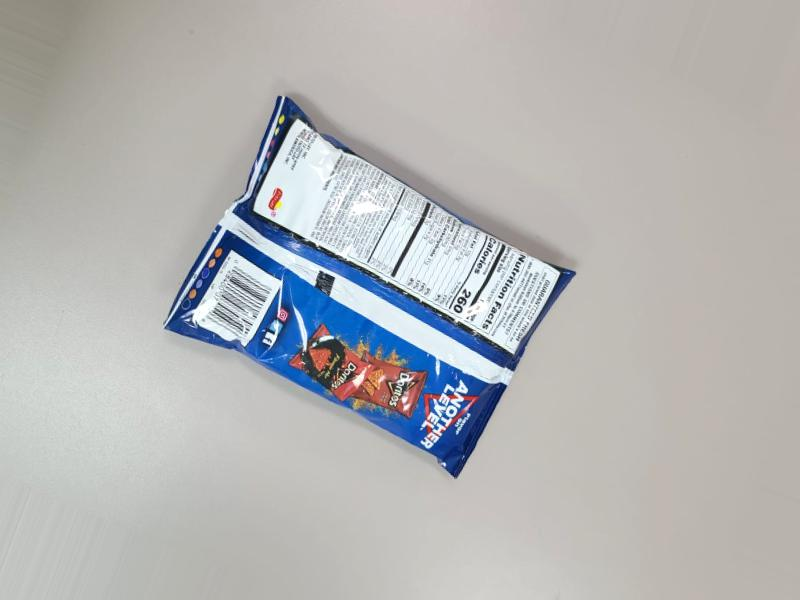doritos: (175, 95, 553, 468)
